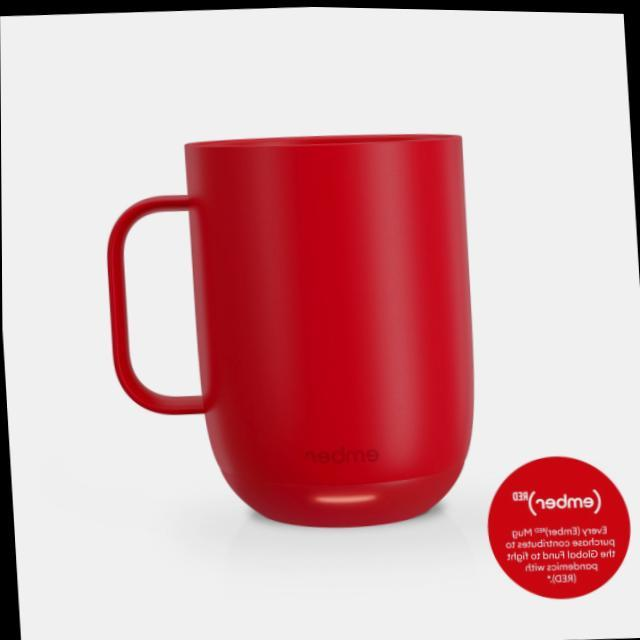cup: (95, 107, 501, 559)
